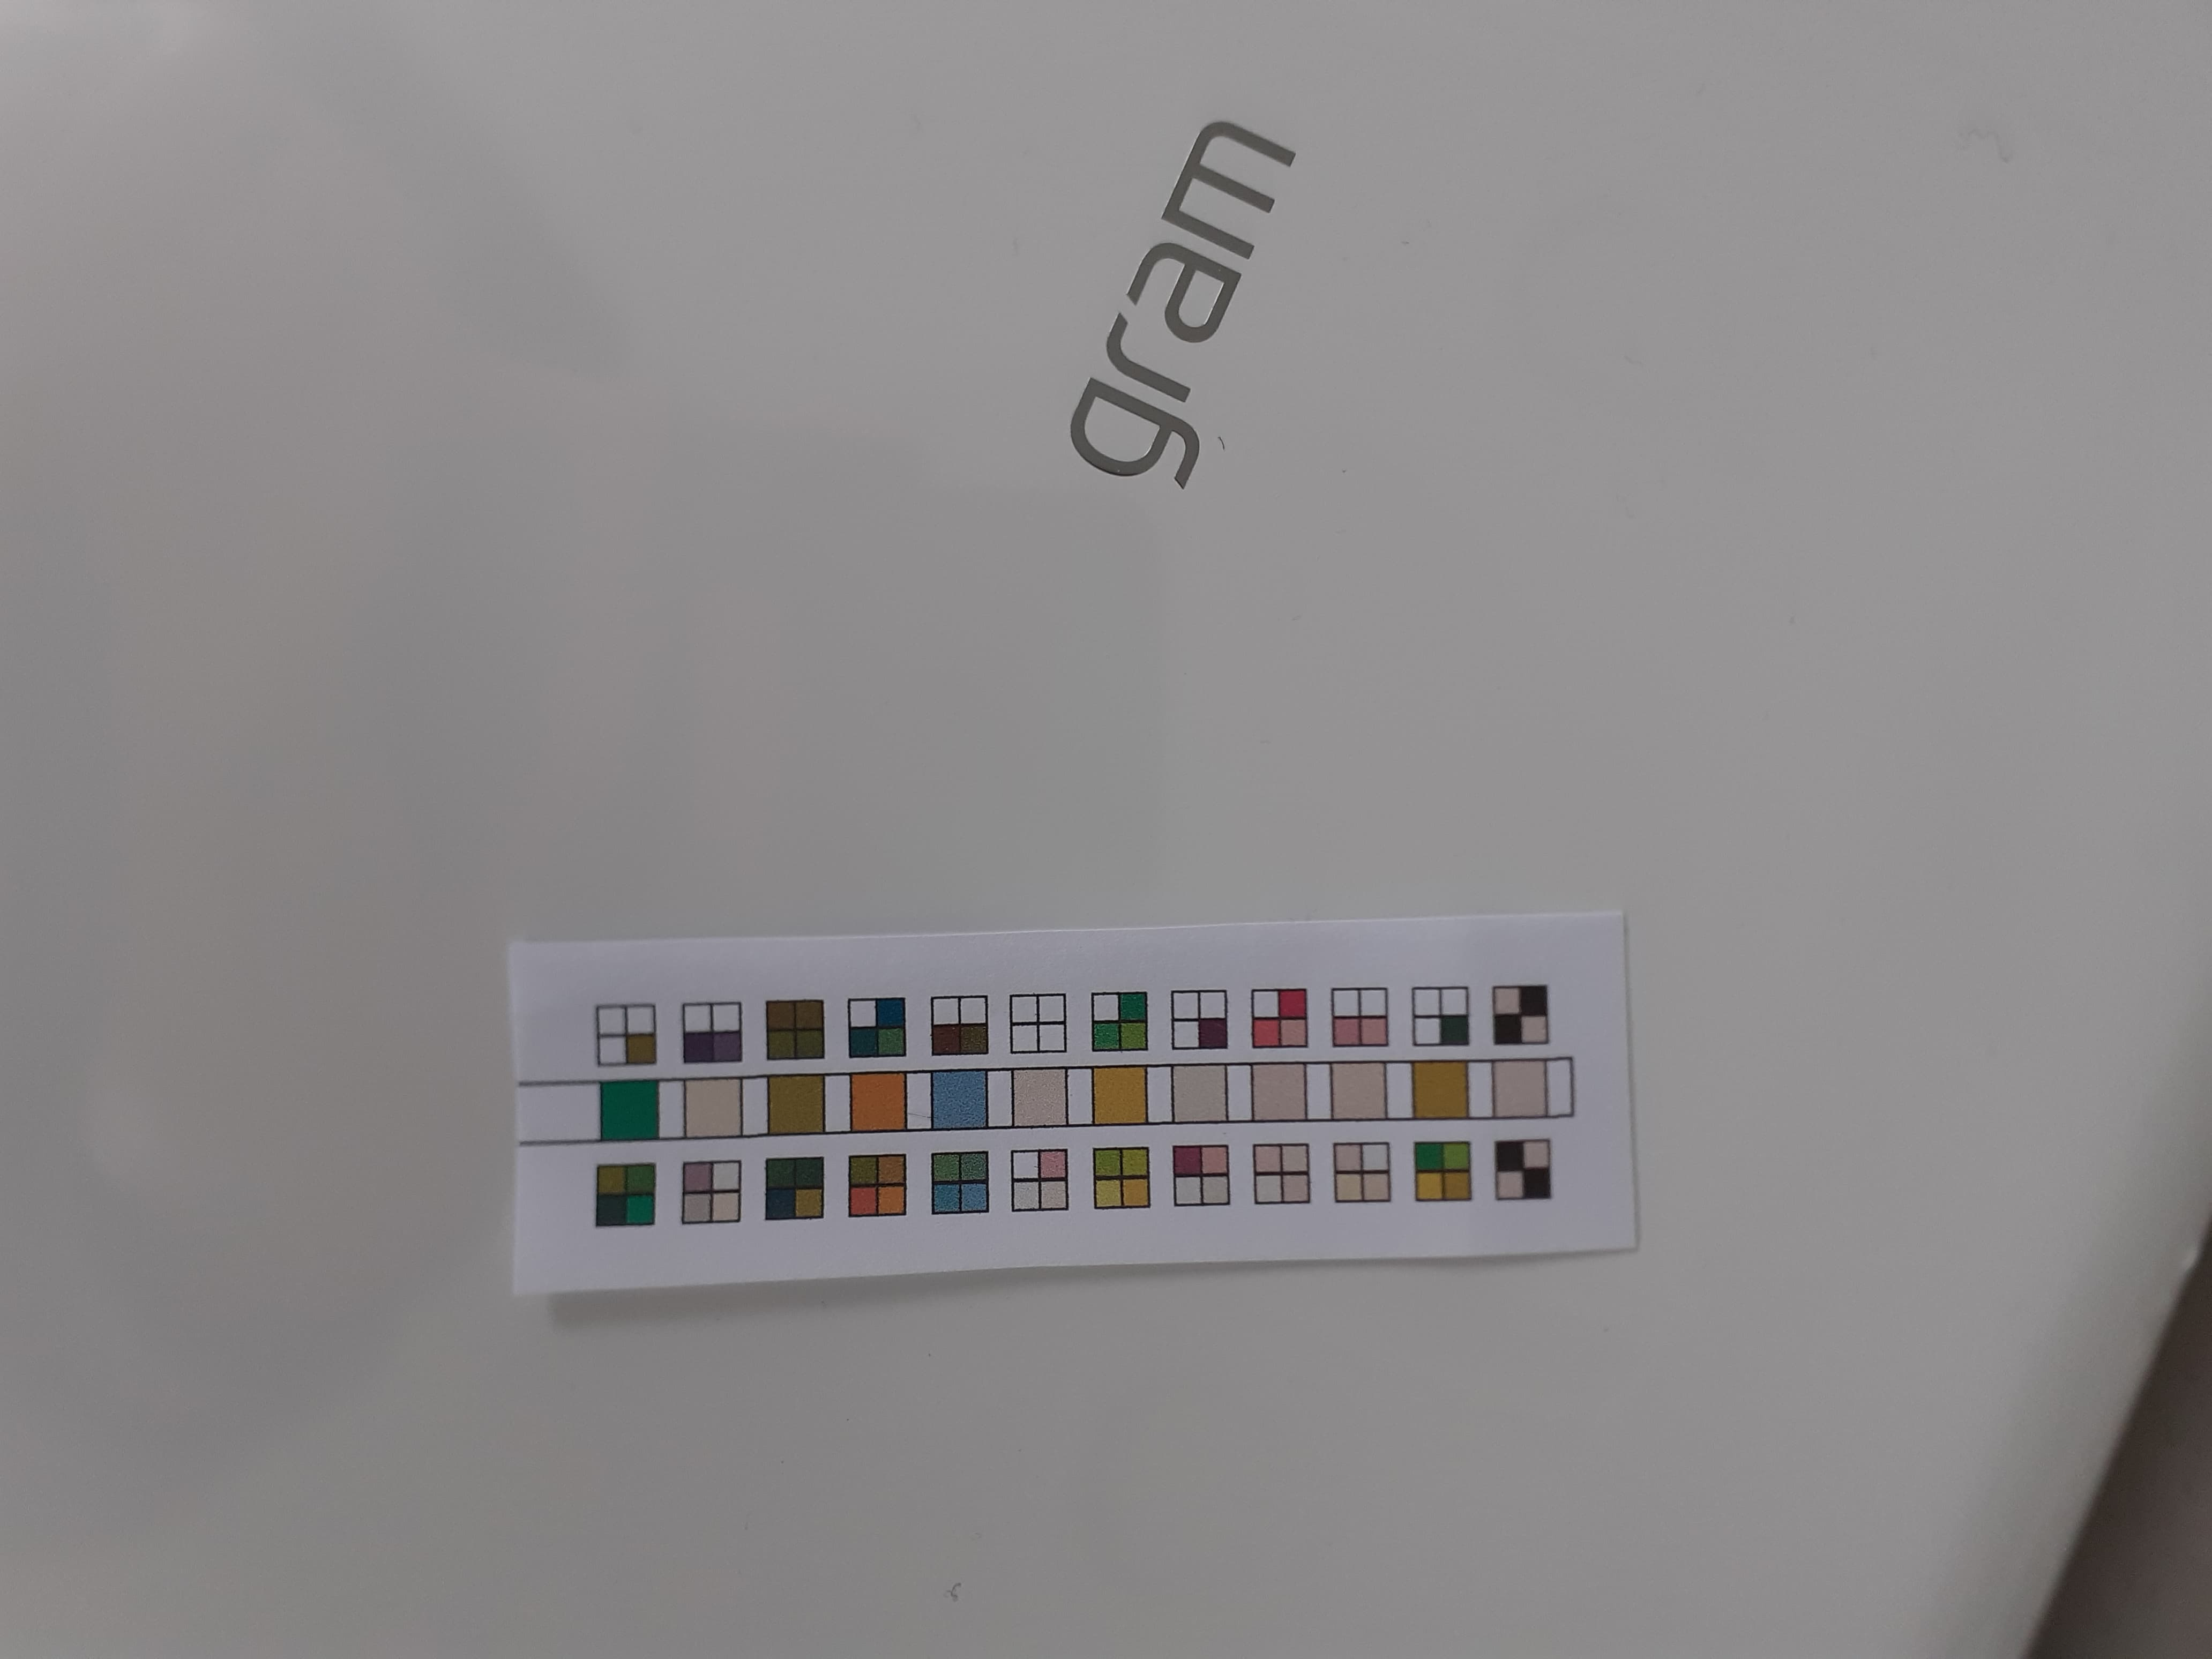tester: (510, 936, 1641, 1253)
